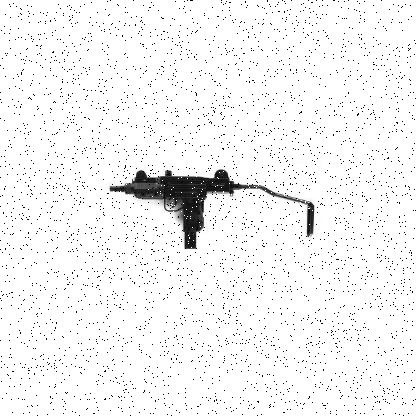gun: (107, 168, 235, 252)
